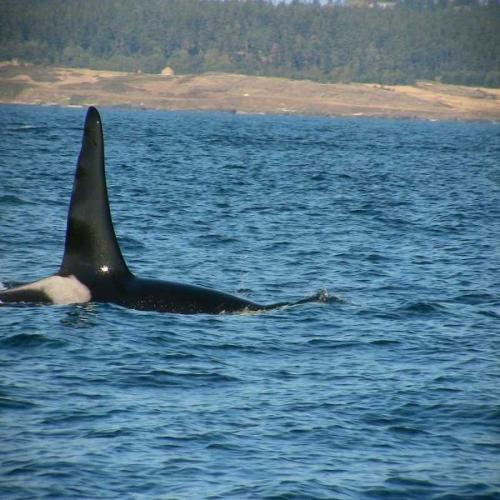killer_whale-endangered: (9, 96, 277, 349)
